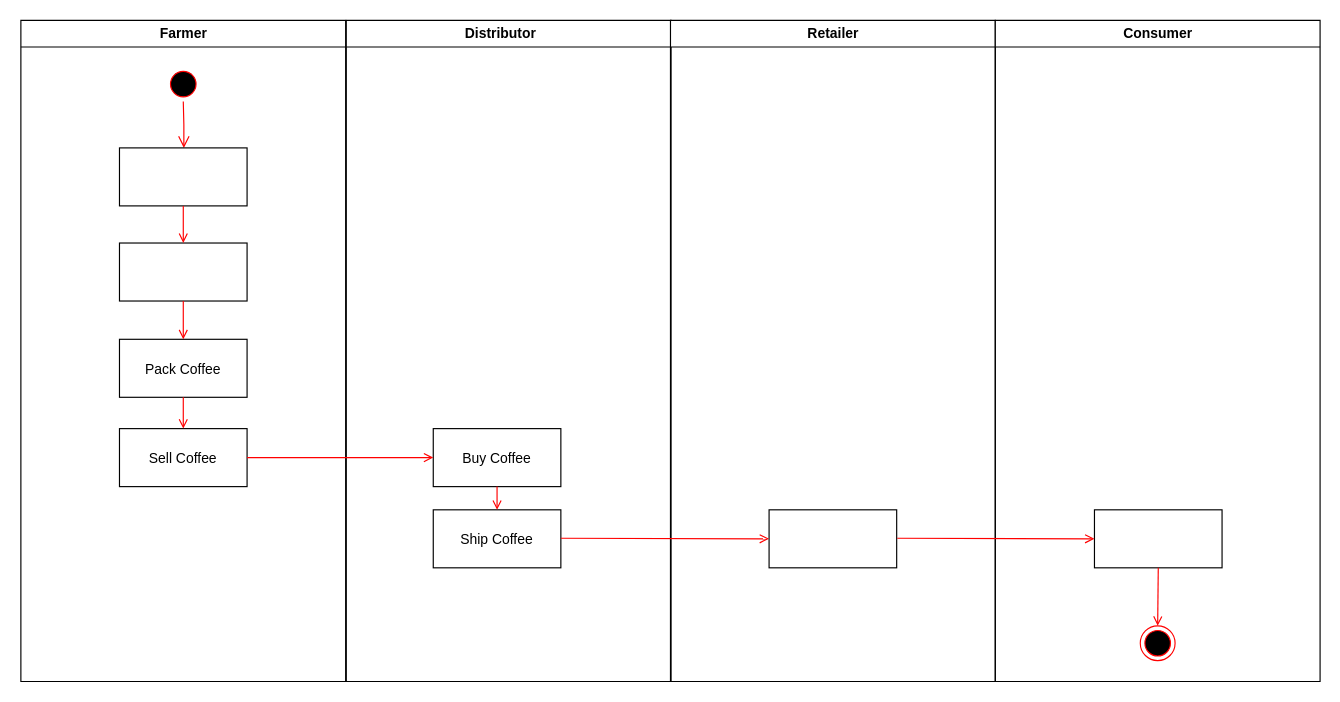
The diagram is 1340 pixels wide and 702 high, and some of its shapes have lost their labels. Here are the shapes that lost their labels. From the top down, the centre of each, then its label:
At point 182,176: "Harvest Coffe".
At point 182,271: "Process Coffee".
At point 832,538: "Receive Coffee".
At point 1157,538: "Purchase Coffee".
